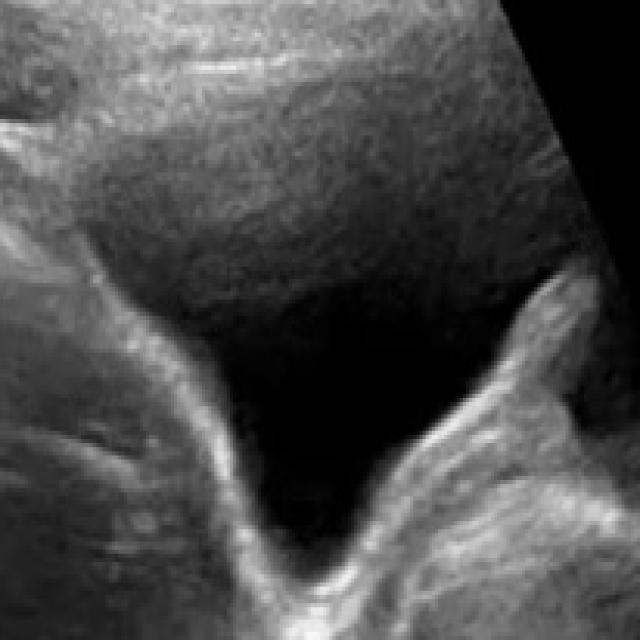bladder: (37, 23, 608, 617)
